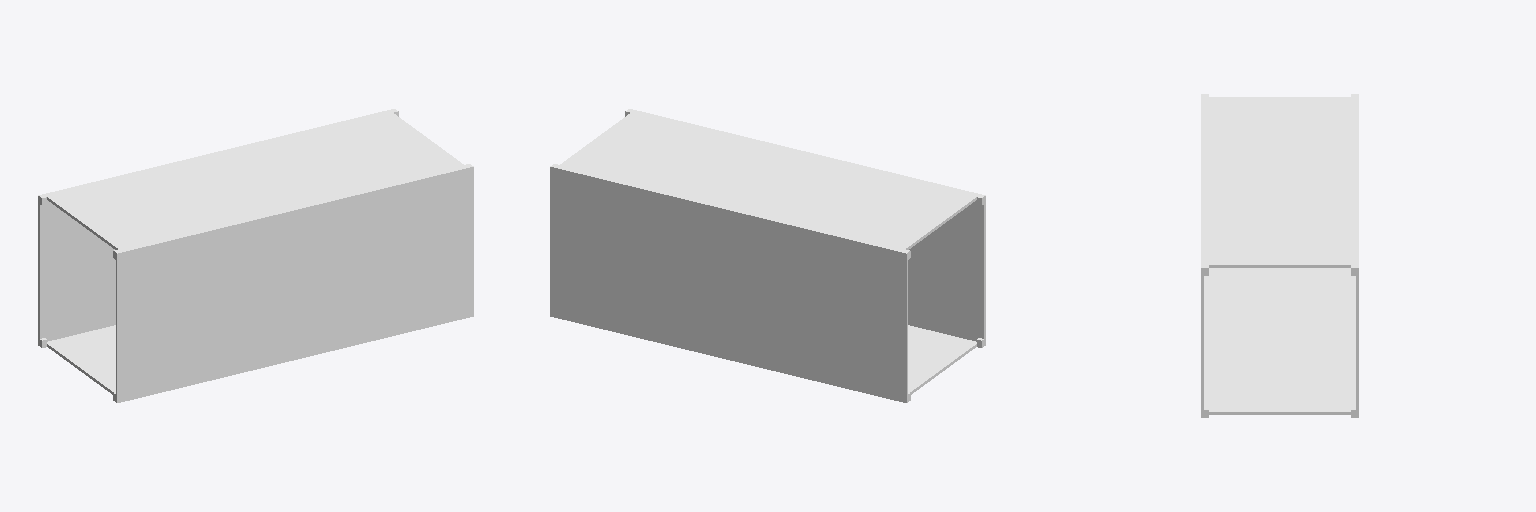
File: container1.obj
3 renders of one model, left to right at view 1: azimuth 30°, elevation 25°; view 2: azimuth 150°, elevation 25°; view 3: azimuth 270°, elevation 25°, orthographic.
Parts seen in each view (by area): view 1: ContainerBlueNogates___01; view 2: ContainerBlueNogates___01; view 3: ContainerBlueNogates___01.
Boxes of the visible parts, x1,y1,x2,y2 form: ContainerBlueNogates___01: [38, 109, 473, 402]; ContainerBlueNogates___01: [550, 109, 985, 402]; ContainerBlueNogates___01: [1201, 94, 1358, 417].
Size of the model in its own units: 240 by 96.46 by 92.52.